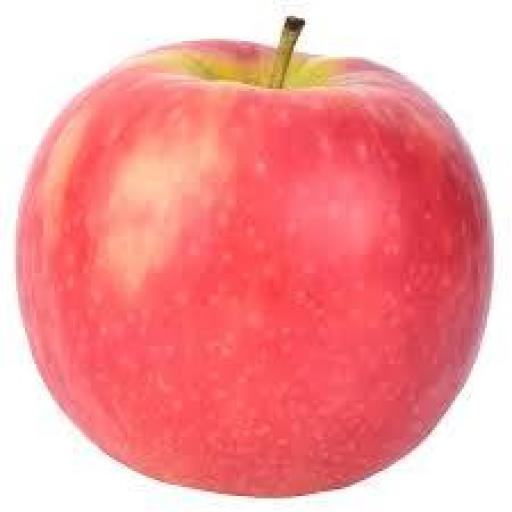apple: (19, 19, 491, 496)
